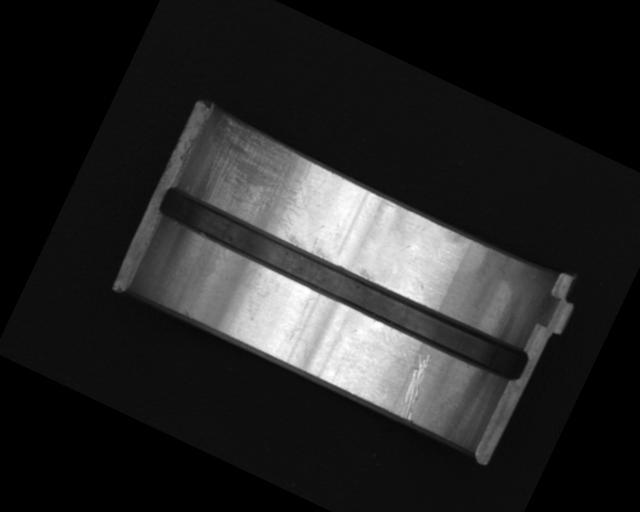gap: (155, 181, 533, 385)
nick: (389, 349, 441, 423)
scratch: (183, 110, 339, 248)
